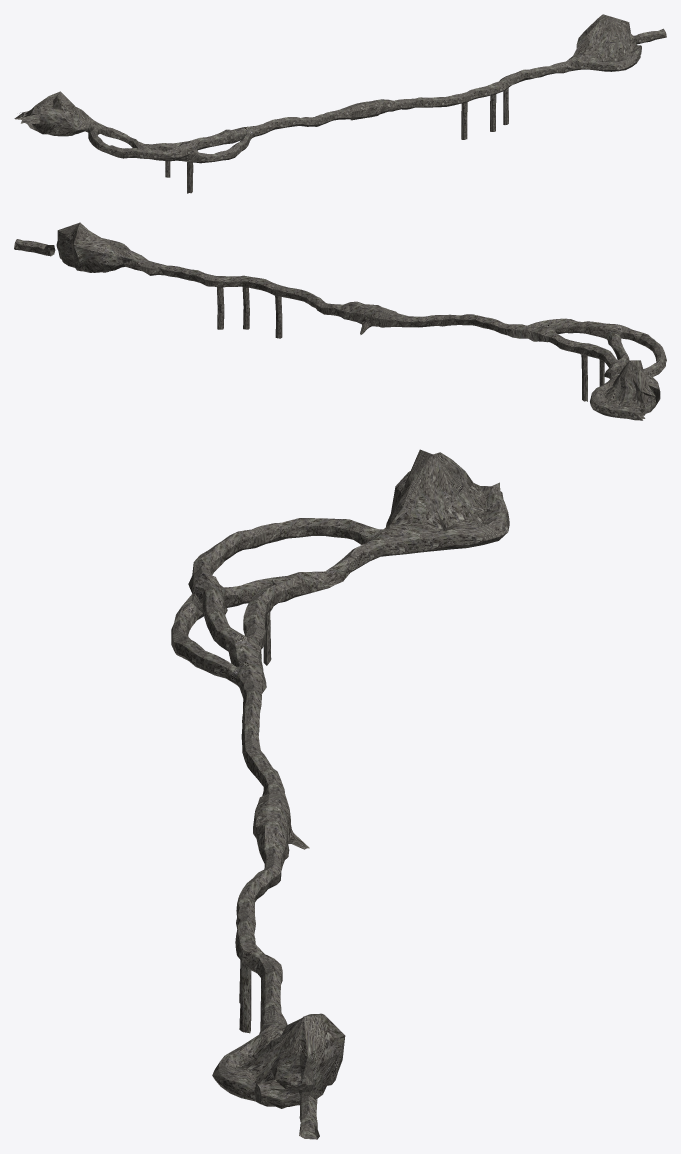
The model's file is passage.glb.
3 views of the same model, one above another, from view 1: azimuth 30°, elevation 25°; view 2: azimuth 150°, elevation 25°; view 3: azimuth 270°, elevation 25° (orthographic). The views are drawn at different scales.
Visible parts, largest first — view 1: undercroft_passage; view 2: undercroft_passage; view 3: undercroft_passage.
Boxes of the visible parts, bbox=[...] form: undercroft_passage: bbox=[14, 14, 666, 193]; undercroft_passage: bbox=[14, 222, 666, 420]; undercroft_passage: bbox=[171, 449, 509, 1139].
Bounding box in the file's own units: 173 × 27.78 × 42.11.
Materials: 1 (1 with a texture image).
